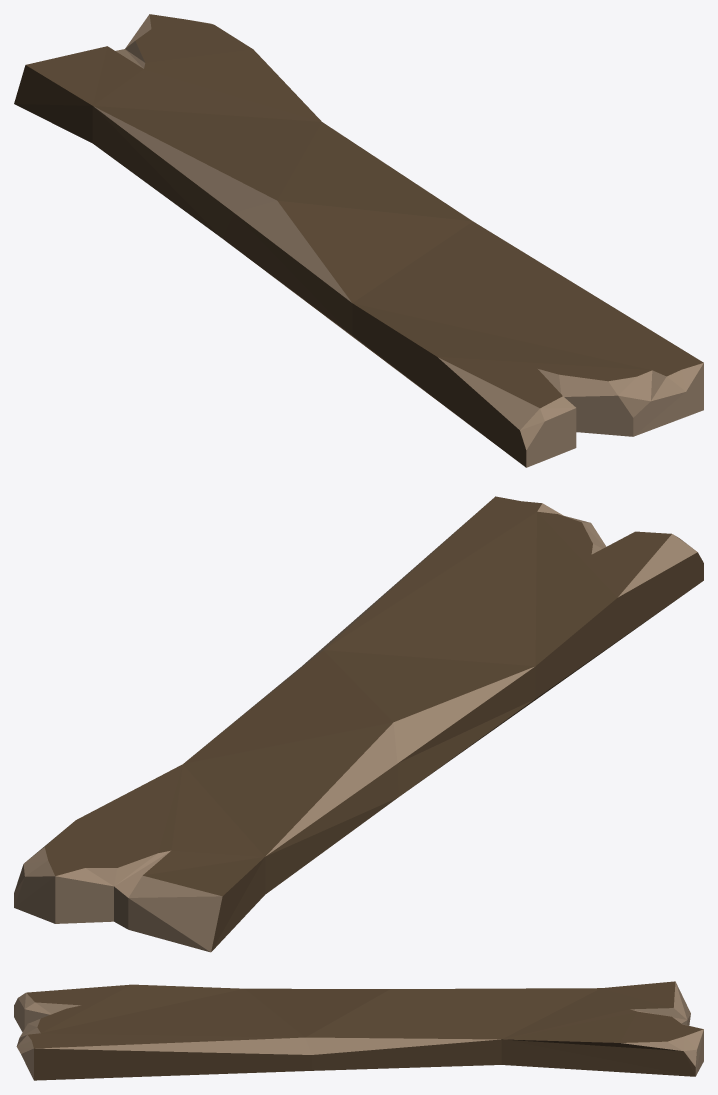
The model's file is Board_03.FBX.
The picture shows the model from 3 angles, top to bottom: view 1: azimuth 30°, elevation 25°; view 2: azimuth 150°, elevation 25°; view 3: azimuth 270°, elevation 25°; orthographic projection. The views are drawn at different scales.
Visible parts, largest first — view 1: Board_03; view 2: Board_03; view 3: Board_03.
Boxes of the visible parts, x1=… form: Board_03: x1=14, y1=14, x2=703, y2=467; Board_03: x1=14, y1=496, x2=703, y2=952; Board_03: x1=14, y1=981, x2=703, y2=1080.
Size of the model in its own units: 0.8991 by 0.236 by 3.9.
